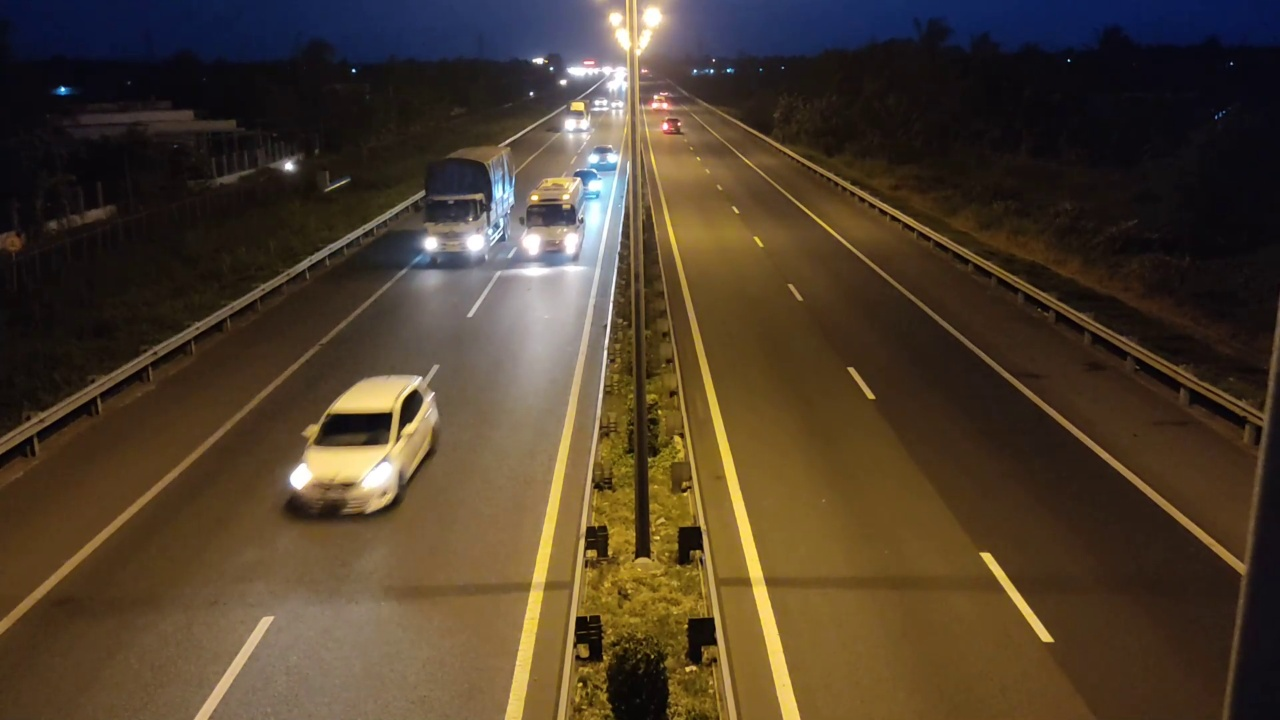bus: (520, 166, 589, 267)
car: (285, 372, 441, 517)
truck: (418, 142, 512, 266)
